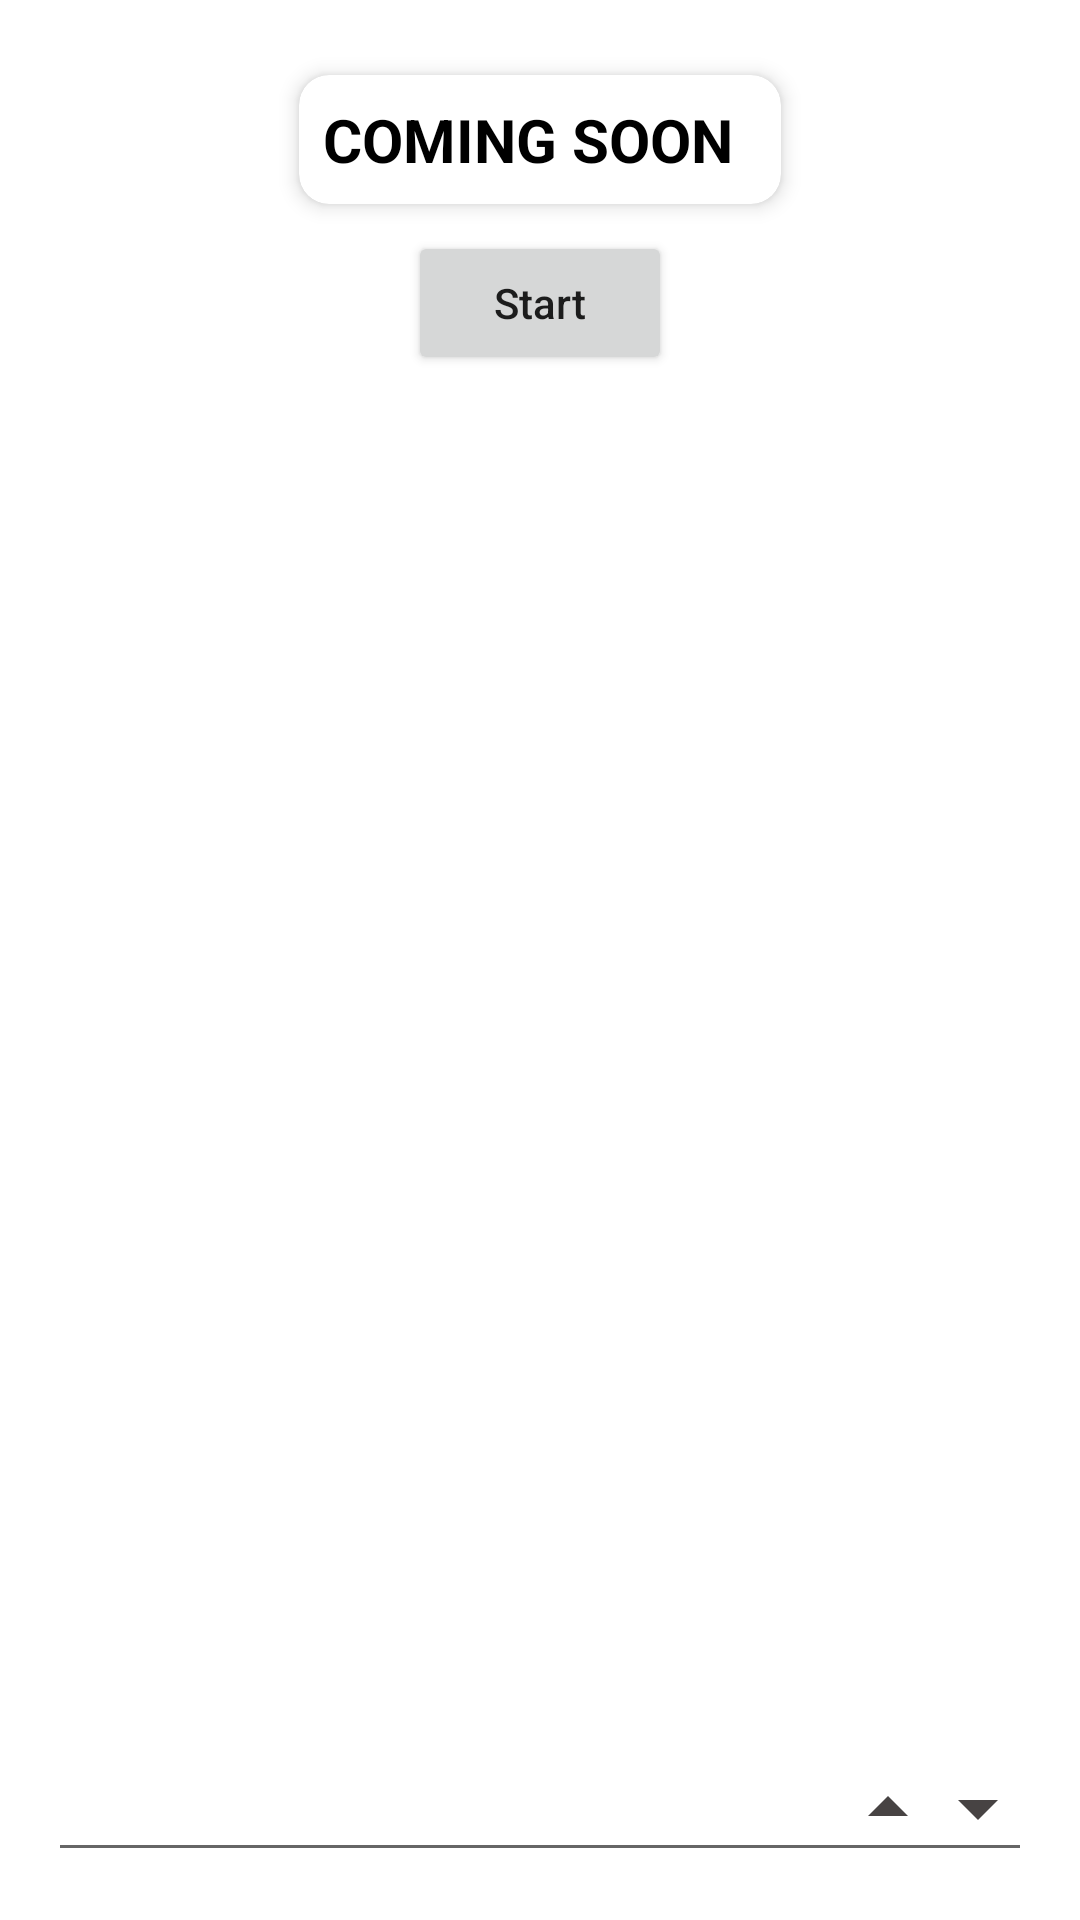

Where icons sit on this 1080w x 1920h app screen, as (x1, y1, x2, y2):
arrow down: (958, 1800, 998, 1820)
arrow up: (868, 1796, 908, 1816)
